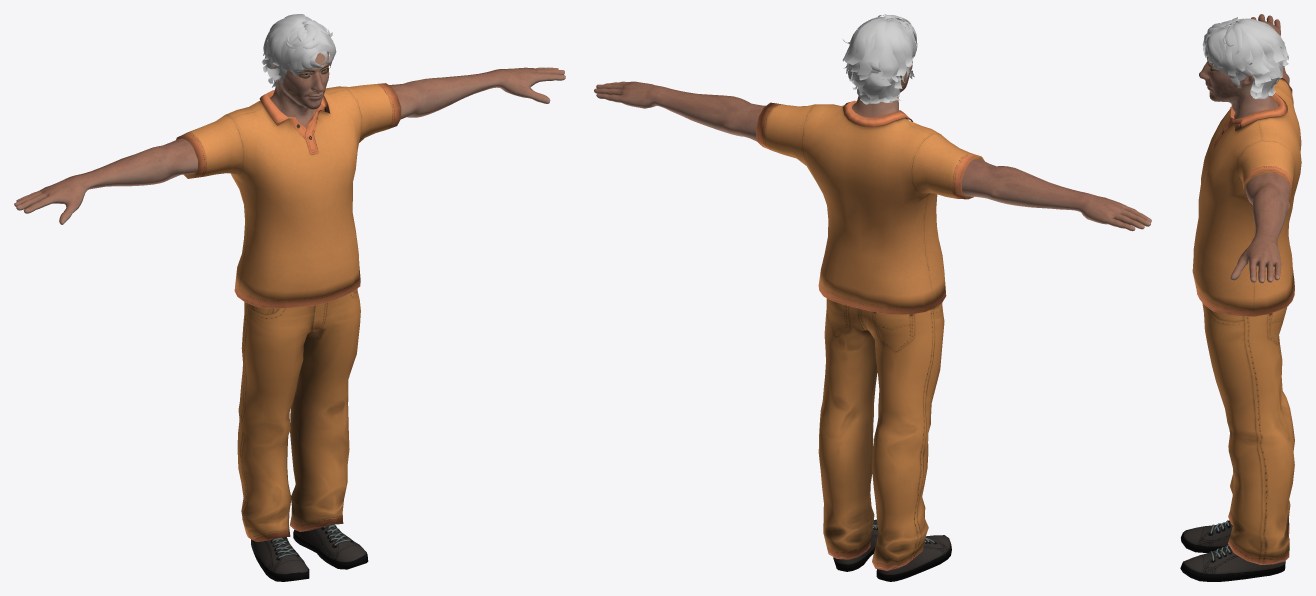
File: ClassD1.obj
3 views of the same model, side by side, from view 1: azimuth 30°, elevation 25°; view 2: azimuth 150°, elevation 25°; view 3: azimuth 270°, elevation 25° (orthographic).
Parts seen in each view (by area): view 1: Tops, Bottoms, Body, Shoes, Hair; view 2: Tops, Bottoms, Body, Hair, Shoes; view 3: Bottoms, Tops, Body, Hair, Shoes.
Boxes of the visible parts, x1,y1,x2,y2 form: Tops: (176,83,401,308); Bottoms: (237,288,360,541); Body: (14,51,565,224); Shoes: (251,524,368,581); Hair: (261,14,336,88); Tops: (756,100,984,314); Bottoms: (818,298,944,570); Body: (594,59,1151,231); Hair: (842,14,917,104); Shoes: (833,519,951,581); Bottoms: (1202,303,1294,564); Tops: (1192,78,1301,316); Body: (1199,14,1289,283); Hair: (1202,17,1288,98); Shoes: (1180,520,1285,581).
Size of the model in its own units: 194 by 181 by 36.96.
